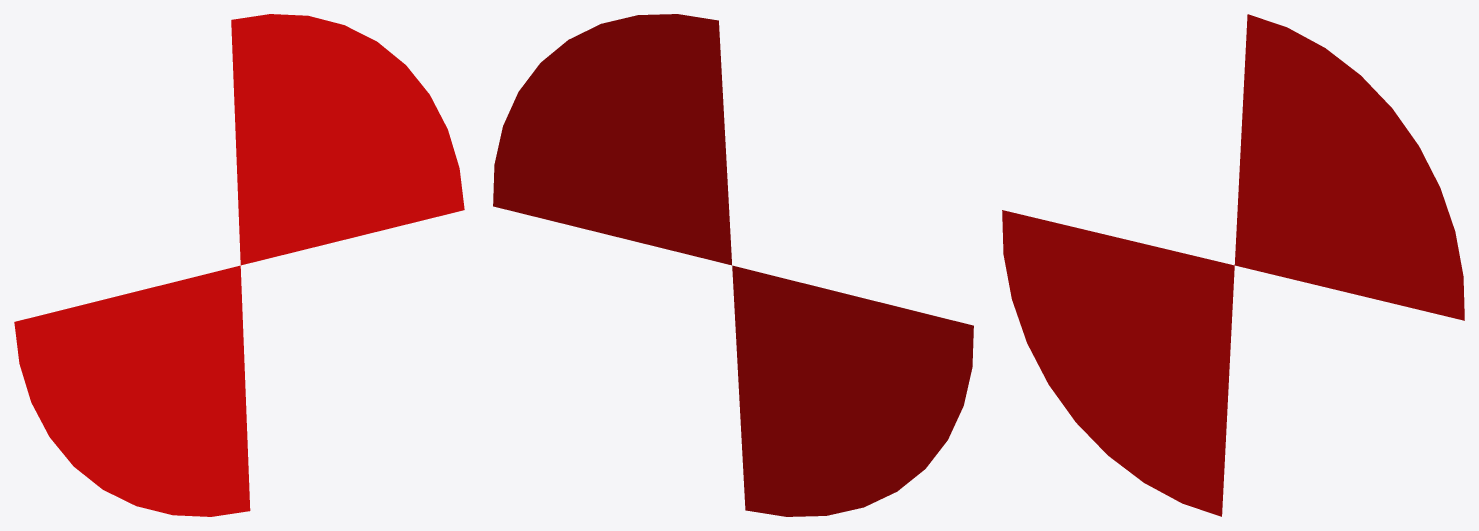
Rendered from orvault-rue-du-mail-LAND2MAP-CC47.glb.
3 views of the same model, side by side, from view 1: azimuth 30°, elevation 25°; view 2: azimuth 150°, elevation 25°; view 3: azimuth 330°, elevation 25° (orthographic). The views are drawn at different scales.
Parts seen in each view (by area): view 1: ParentObject; view 2: ParentObject; view 3: ParentObject.
Part boxes in pixels (bbox=[...]): ParentObject: bbox=[14, 14, 464, 516]; ParentObject: bbox=[493, 14, 973, 516]; ParentObject: bbox=[1002, 14, 1464, 516].
Bounding box in the file's own units: 0.4454 × 0.4483 × 0.0376.
